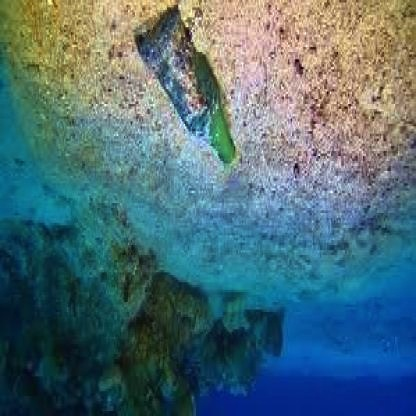gbottle: (138, 7, 236, 171)
